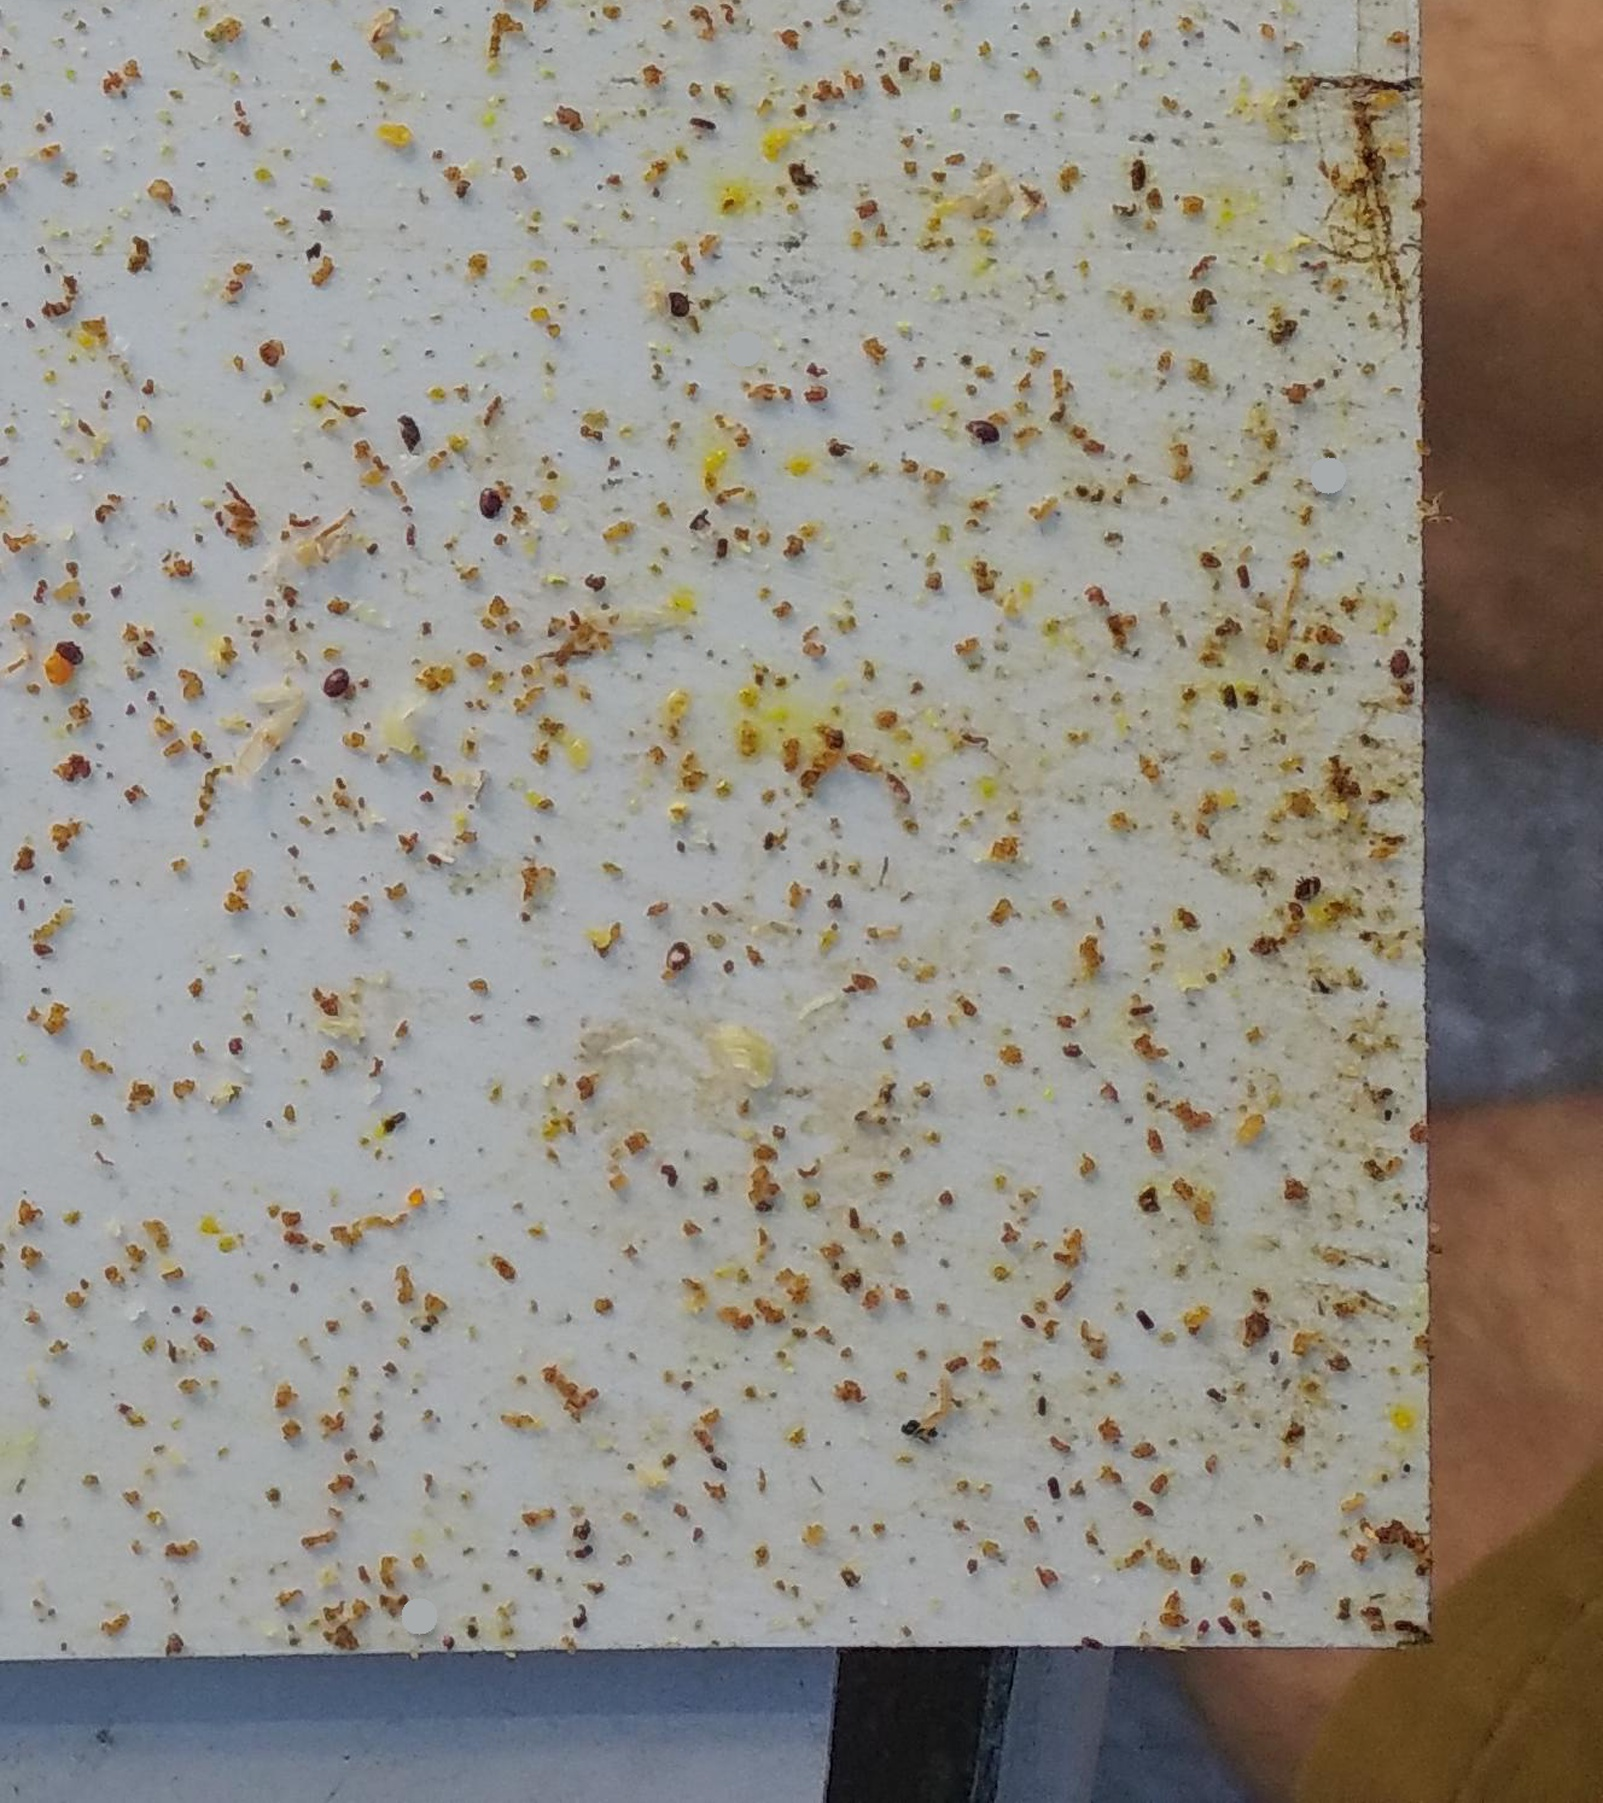Varroa: (56, 642, 85, 669), (969, 419, 996, 446), (1292, 870, 1320, 896), (320, 673, 347, 700), (477, 486, 504, 511), (665, 938, 693, 963), (667, 289, 693, 314), (1386, 645, 1413, 669)
